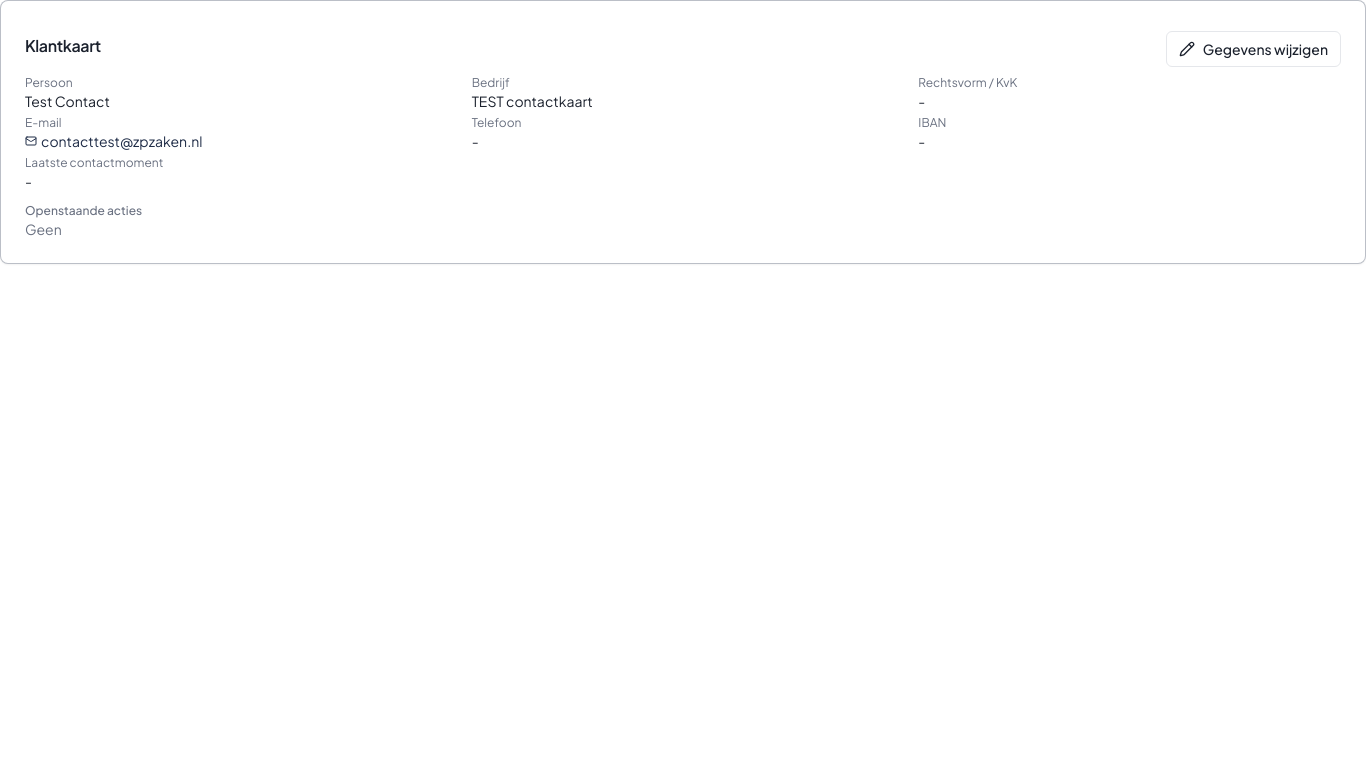
Test case: klantkaart contactbron › wijzigt telefoon en e-mail op de persoon en toont opgeslagen waarden, ook via een samengevoegde kaart
Later steps or results of the test are not shown.
Click the button "Gegevens wijzigen": (1253, 49) 1166,31 -> 1341,67
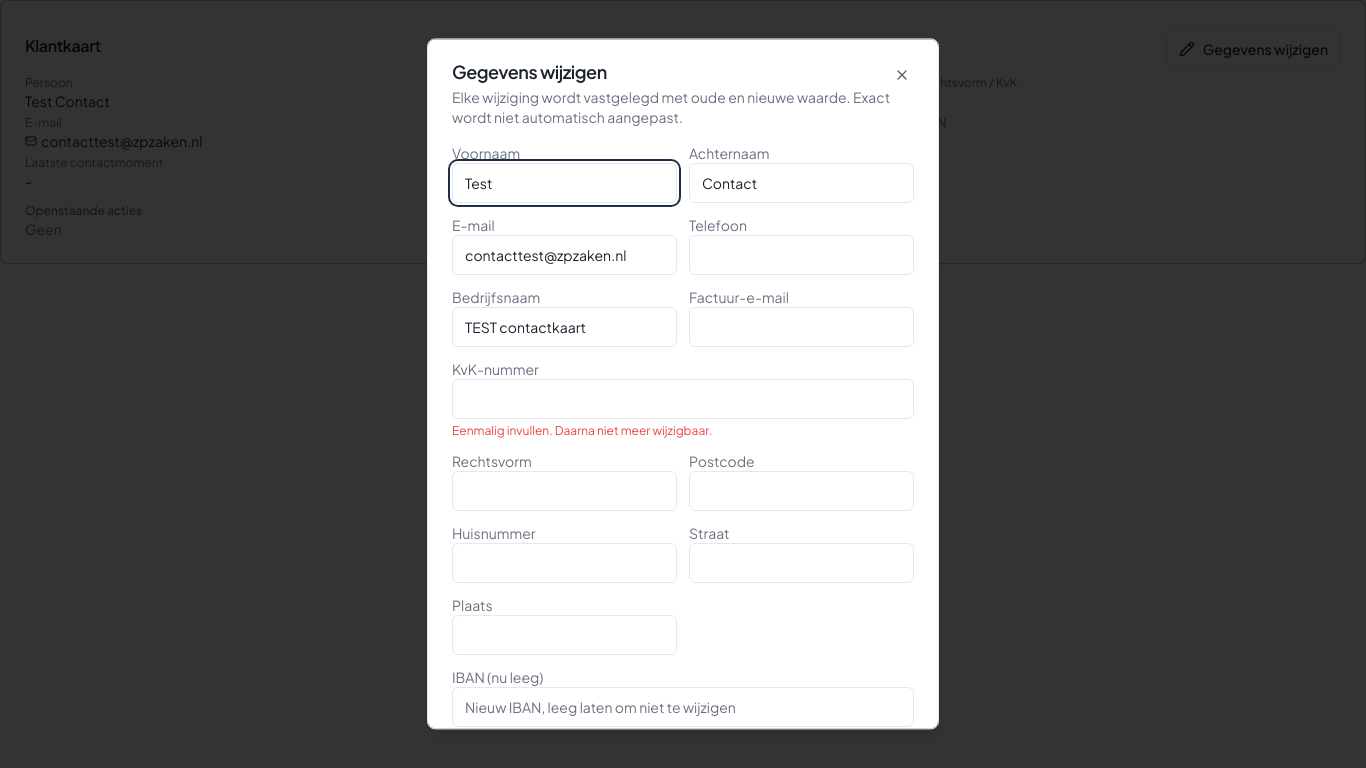
Result: the field labelled "E-mail" holds "contacttest@zpzaken.nl" at 452,235 -> 677,275
